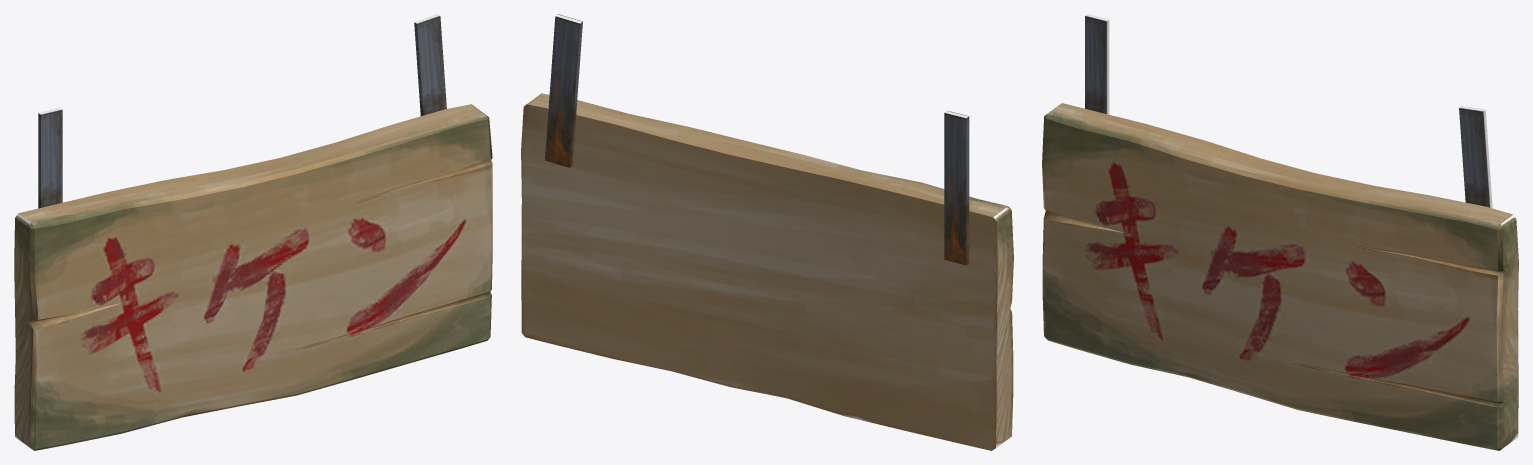
Rendered from SM_ENV_KNFRST_Signboard_A.FBX.
3 views of the same model, side by side, from view 1: azimuth 30°, elevation 25°; view 2: azimuth 150°, elevation 25°; view 3: azimuth 330°, elevation 25° (orthographic). The views are drawn at different scales.
Visible parts, largest first — view 1: SM_ENV_KNFRST_Signboard_A; view 2: SM_ENV_KNFRST_Signboard_A; view 3: SM_ENV_KNFRST_Signboard_A.
Part boxes in pixels (box(x1,y1,x2,y2)): SM_ENV_KNFRST_Signboard_A: box(14, 14, 492, 450); SM_ENV_KNFRST_Signboard_A: box(521, 14, 1013, 450); SM_ENV_KNFRST_Signboard_A: box(1042, 14, 1518, 450).
Bounding box in the file's own units: 427 × 286 × 43.18.
